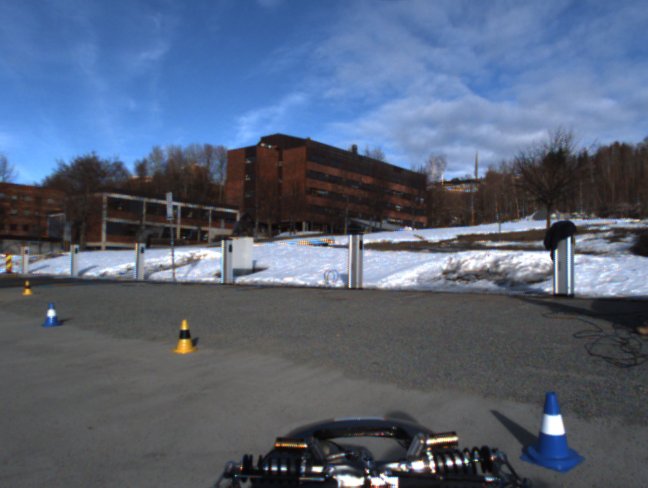cone-small-blue: (518, 389, 586, 474), (41, 302, 63, 327)
cone-small-yellow: (171, 319, 199, 354), (22, 280, 34, 295)
